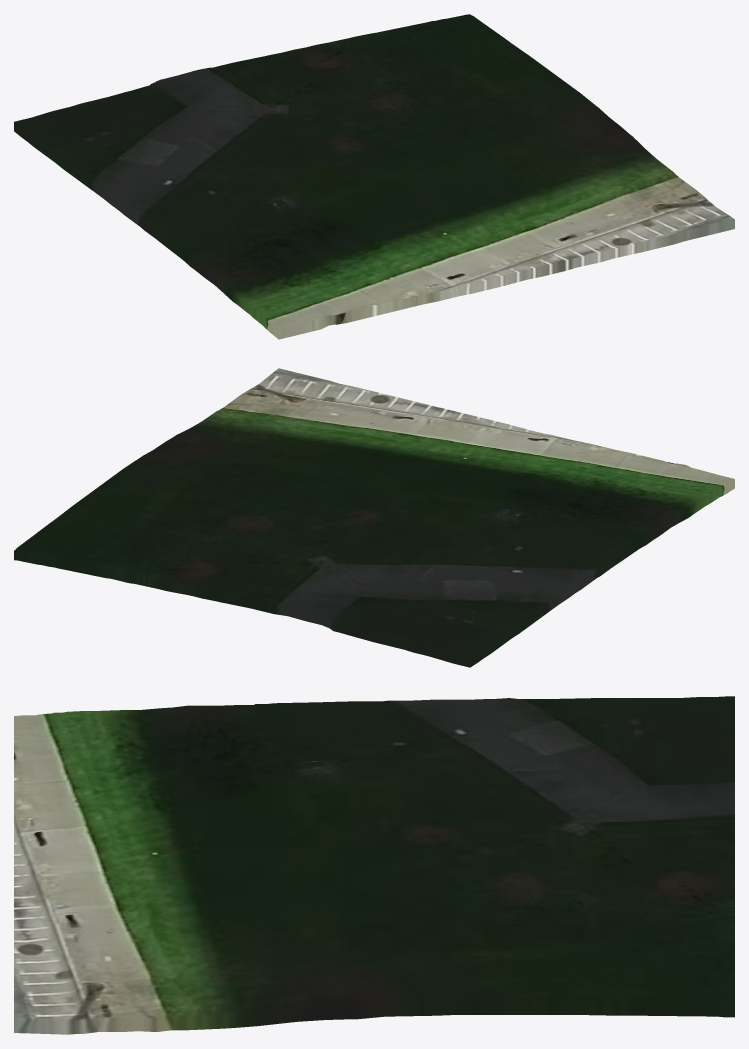
File: z20-167780-405219-h0-yup-uvflip-v3-world.glb
3 renders of one model, top to bottom at view 1: azimuth 30°, elevation 25°; view 2: azimuth 150°, elevation 25°; view 3: azimuth 270°, elevation 25°, orthographic. The views are drawn at different scales.
Size of the model in its own units: 30.16 by 2.08 by 30.32.
1 material, 1 textured.
